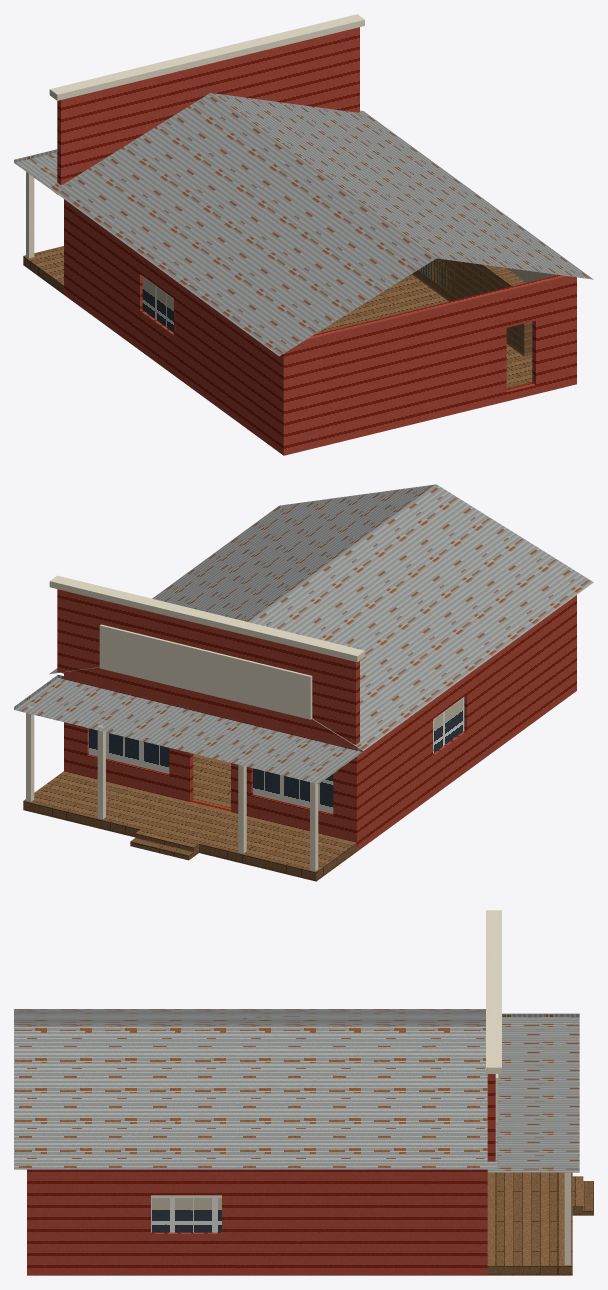
The model's file is general_store.glb.
The picture shows the model from 3 angles, top to bottom: view 1: azimuth 30°, elevation 25°; view 2: azimuth 150°, elevation 25°; view 3: azimuth 270°, elevation 25°; orthographic projection. The views are drawn at different scales.
Parts seen in each view (by area): view 1: general_store; view 2: general_store; view 3: general_store.
Part boxes in pixels (<box>): general_store: <box>14,14,593,455</box>; general_store: <box>14,484,593,881</box>; general_store: <box>14,910,593,1275</box>.
Size of the model in its own units: 10.74 by 6.6 by 16.37.
Materials: 8 (8 with a texture image).
